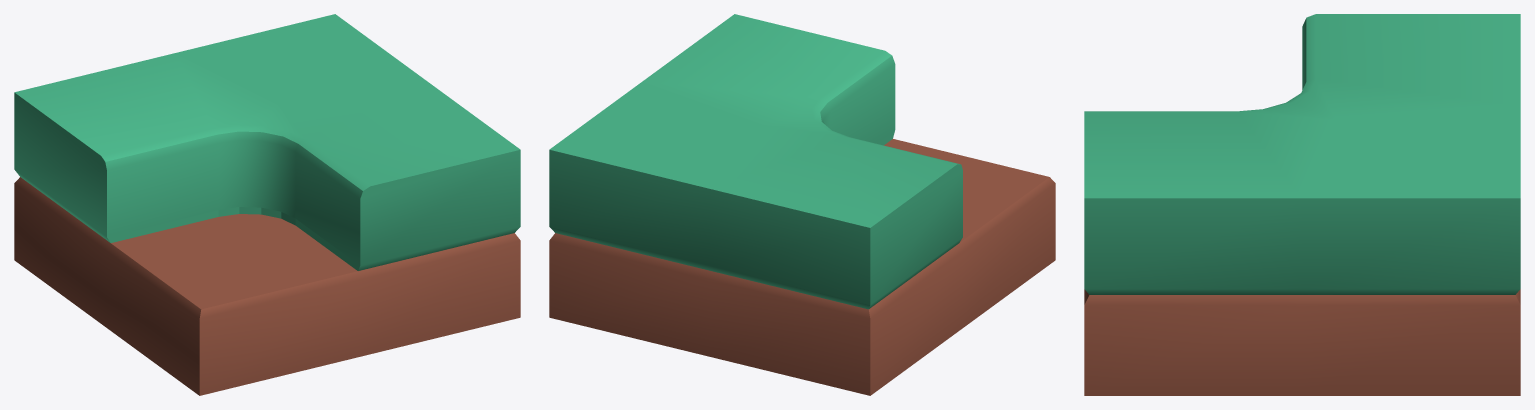
File: square_forest_waterInnerCorner_empty.glb
The picture shows the model from 3 angles, left to right: view 1: azimuth 30°, elevation 25°; view 2: azimuth 150°, elevation 25°; view 3: azimuth 270°, elevation 25°; orthographic projection. The views are drawn at different scales.
Visible parts, largest first — view 1: square_forest_waterInnerCorner_empty; view 2: square_forest_waterInnerCorner_empty; view 3: square_forest_waterInnerCorner_empty.
Boxes of the visible parts, x1,y1,x2,y2 form: square_forest_waterInnerCorner_empty: (14, 14, 520, 395); square_forest_waterInnerCorner_empty: (549, 14, 1055, 395); square_forest_waterInnerCorner_empty: (1084, 14, 1520, 395).
Size of the model in its own units: 2 by 1 by 2.
